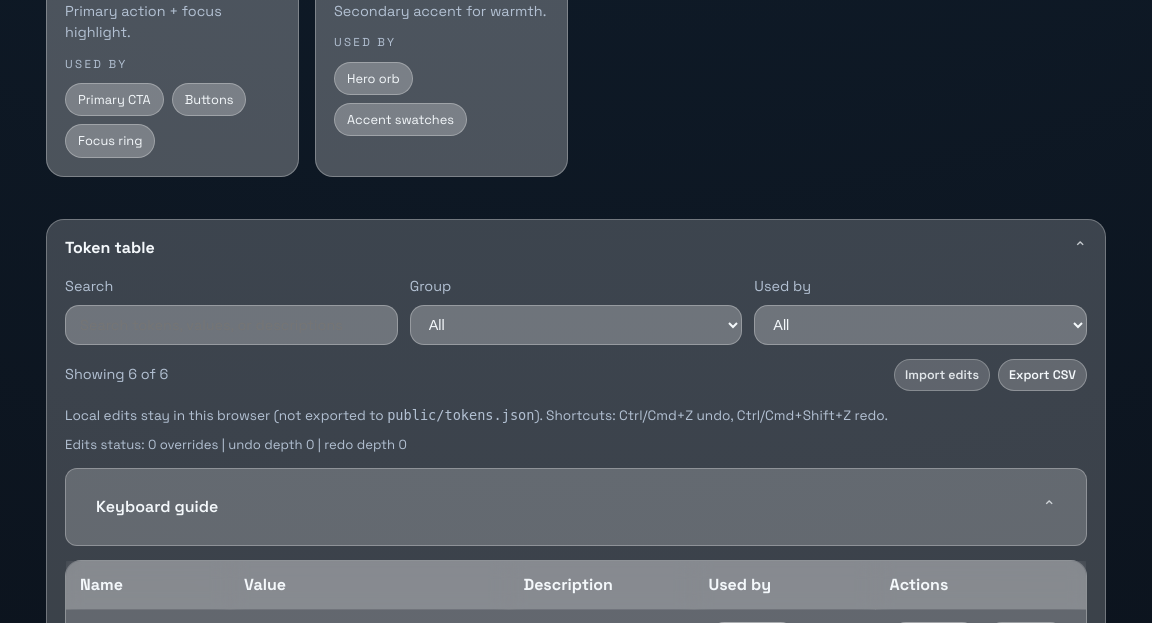
Test: App › filters the token table by used-by
(page scrolled)
Select "Focus ring" in the dropdown named "filter tokens by usage" at (921, 325), box [754,305,1087,345]
(page scrolled)
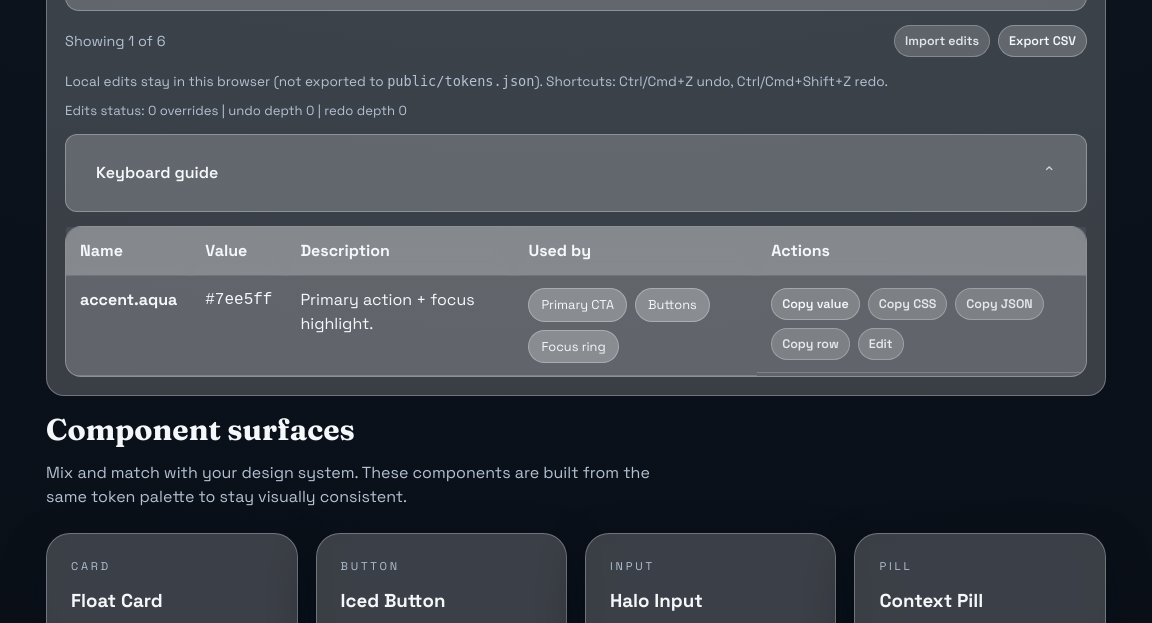
Check: the column heading "accent.aqua" is shown, box [66,276,191,375]
Check: the text "Showing 1 of 6" is shown, box [65,31,166,52]
